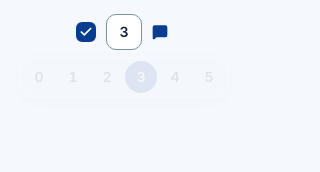
JournalScoreCell commands › JournalScoreCell overlays › sets a grade directly from a digit key while the picker is focused
The image size is (320, 172).
Click the button "3".
click(124, 32)  # box top-left (106, 14), bottom-right (142, 50)
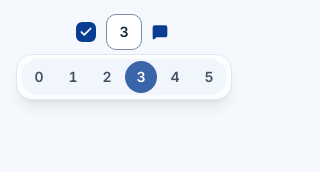
Press 1 in the element "3", box top-left (125, 61), bottom-right (157, 93)
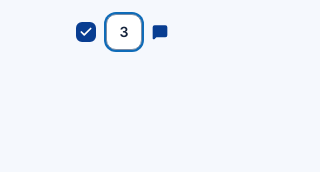
Now the menu is gone
